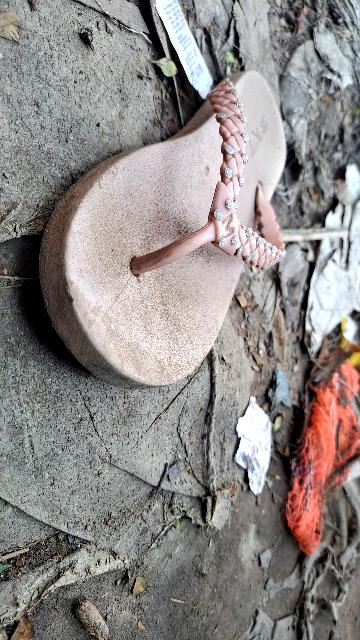sandal: (0, 24, 360, 432)
